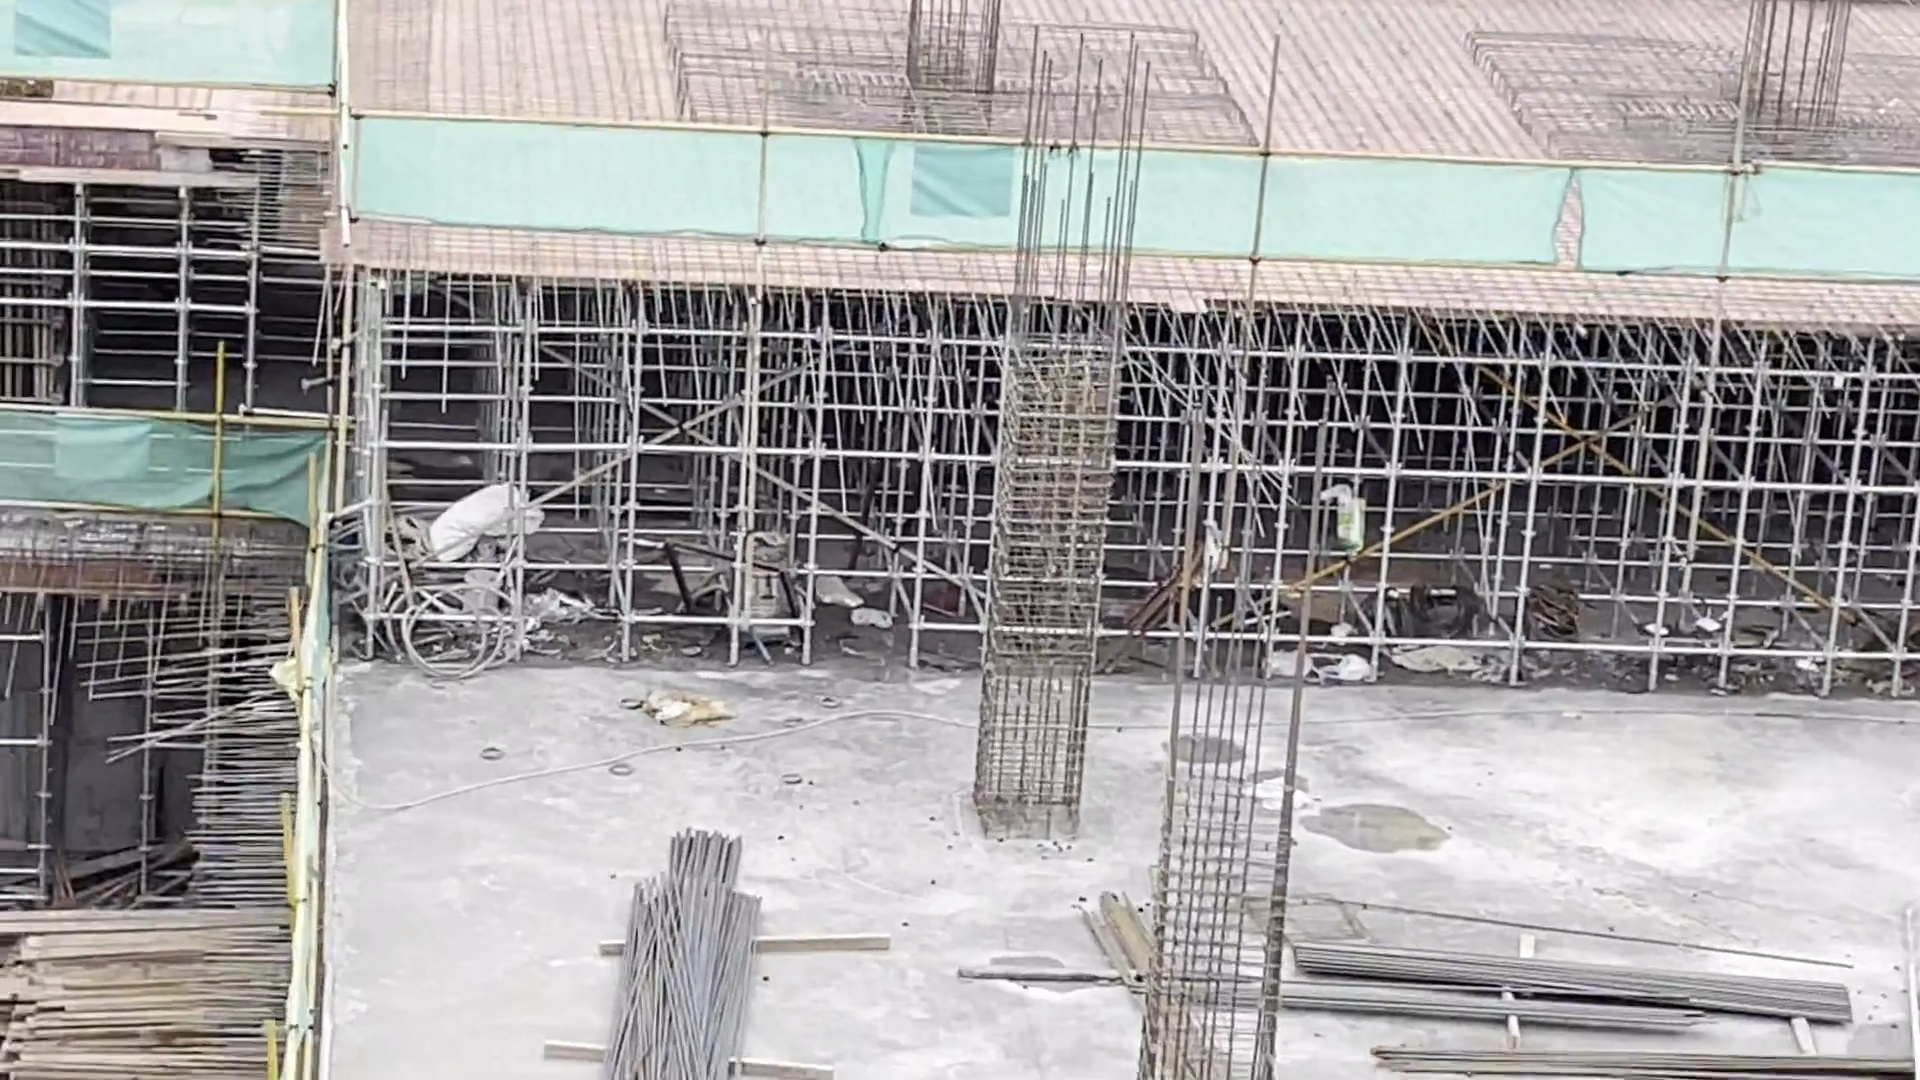rebar: (617, 814, 764, 1080)
wood: (7, 909, 291, 1073)
